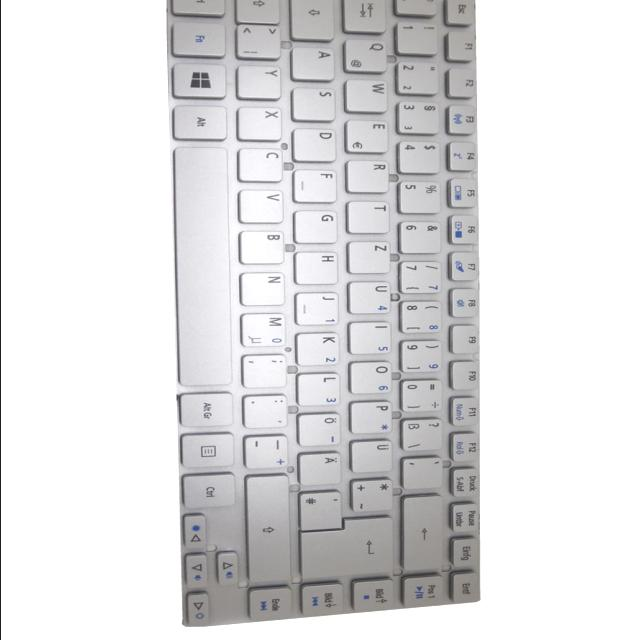0: (400, 379, 442, 413)
1: (396, 21, 439, 55)
2: (396, 60, 438, 94)
3: (397, 101, 440, 135)
4: (397, 141, 441, 173)
5: (398, 181, 440, 214)
6: (398, 221, 442, 254)
7: (400, 261, 442, 295)
8: (399, 302, 442, 334)
9: (400, 339, 442, 373)
a: (290, 46, 336, 80)
accent: (401, 455, 443, 489)
ae: (299, 451, 341, 485)
alt-left: (173, 105, 227, 141)
altgr-right: (179, 392, 235, 428)
b: (239, 230, 285, 264)
c: (238, 148, 284, 183)
caret: (395, 0, 437, 16)
comma: (241, 352, 287, 388)
d: (292, 128, 336, 162)
del: (402, 494, 443, 571)
e: (344, 119, 390, 153)
enter: (301, 517, 394, 579)
f: (293, 169, 337, 203)
g: (294, 210, 338, 243)
h: (294, 251, 338, 285)
hash: (299, 491, 342, 530)
i: (349, 321, 391, 355)
j: (295, 292, 339, 326)
k: (296, 332, 340, 366)
keyboard: (164, 0, 484, 628)
l: (297, 372, 341, 406)
less: (235, 24, 281, 60)
m: (240, 312, 286, 346)
minus: (243, 434, 289, 470)
n: (240, 272, 286, 306)
o: (349, 361, 391, 394)
oe: (298, 413, 342, 447)
p: (350, 400, 393, 434)
plus: (350, 479, 394, 513)
point: (242, 394, 288, 428)
q: (345, 39, 387, 73)
r: (345, 160, 389, 193)
s: (291, 87, 337, 121)
shift-left: (236, 0, 280, 22)
shift-lock: (291, 0, 336, 39)
shift-right: (244, 474, 292, 584)
space: (173, 146, 233, 386)
ss: (401, 417, 444, 451)
strg-left: (170, 0, 226, 16)
strg-right: (181, 472, 237, 510)
t: (345, 200, 391, 233)
tab: (342, 0, 386, 33)
u: (349, 280, 391, 314)
ue: (350, 439, 394, 473)
v: (239, 189, 285, 223)
w: (344, 80, 388, 113)
x: (236, 106, 282, 140)
y: (237, 65, 281, 99)
z: (347, 241, 391, 273)
